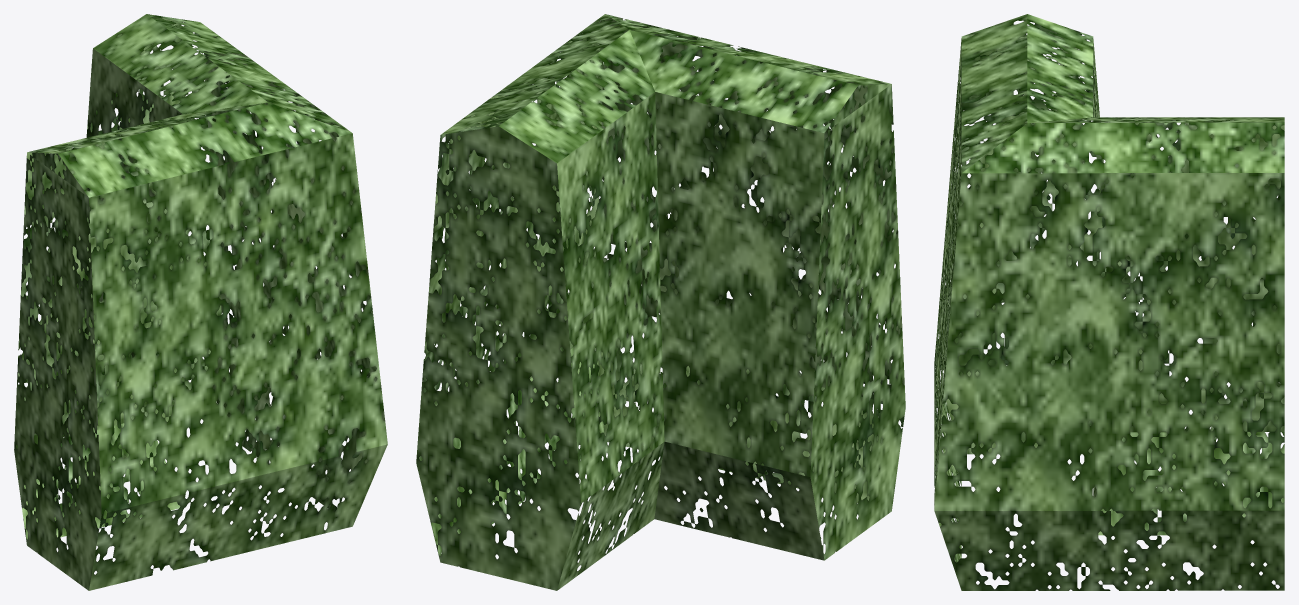
File: bush_long_square_corner_summer.fbx
3 views of the same model, side by side, from view 1: azimuth 30°, elevation 25°; view 2: azimuth 150°, elevation 25°; view 3: azimuth 270°, elevation 25° (orthographic). The views are drawn at different scales.
Visible parts, largest first — view 1: bush_long_square_corner_summer; view 2: bush_long_square_corner_summer; view 3: bush_long_square_corner_summer.
Boxes of the visible parts, <box> form: bush_long_square_corner_summer: <box>14,14,387,590</box>; bush_long_square_corner_summer: <box>416,14,905,590</box>; bush_long_square_corner_summer: <box>934,14,1284,590</box>.
Size of the model in its own units: 136 by 188 by 135.
1 material, 1 textured.
